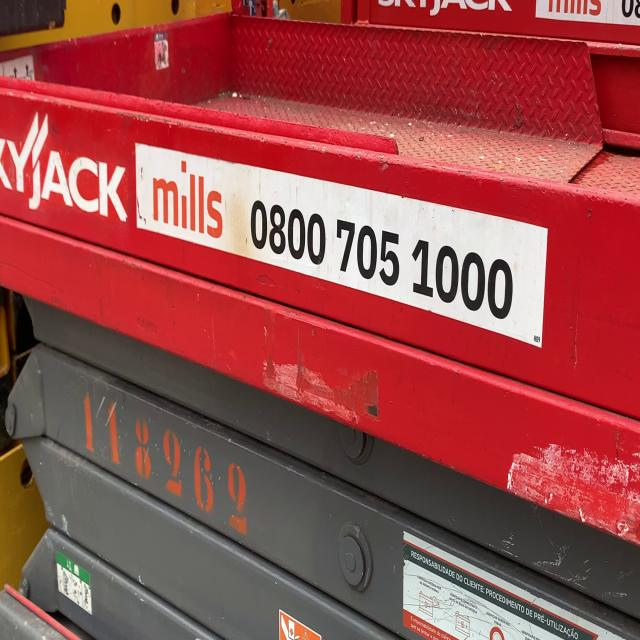Adesivo Longo: (132, 135, 554, 360)
